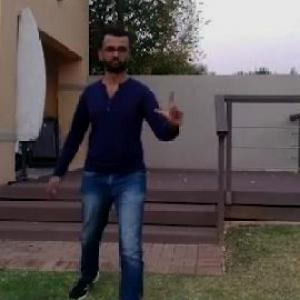land_hand: (152, 87, 190, 132)
